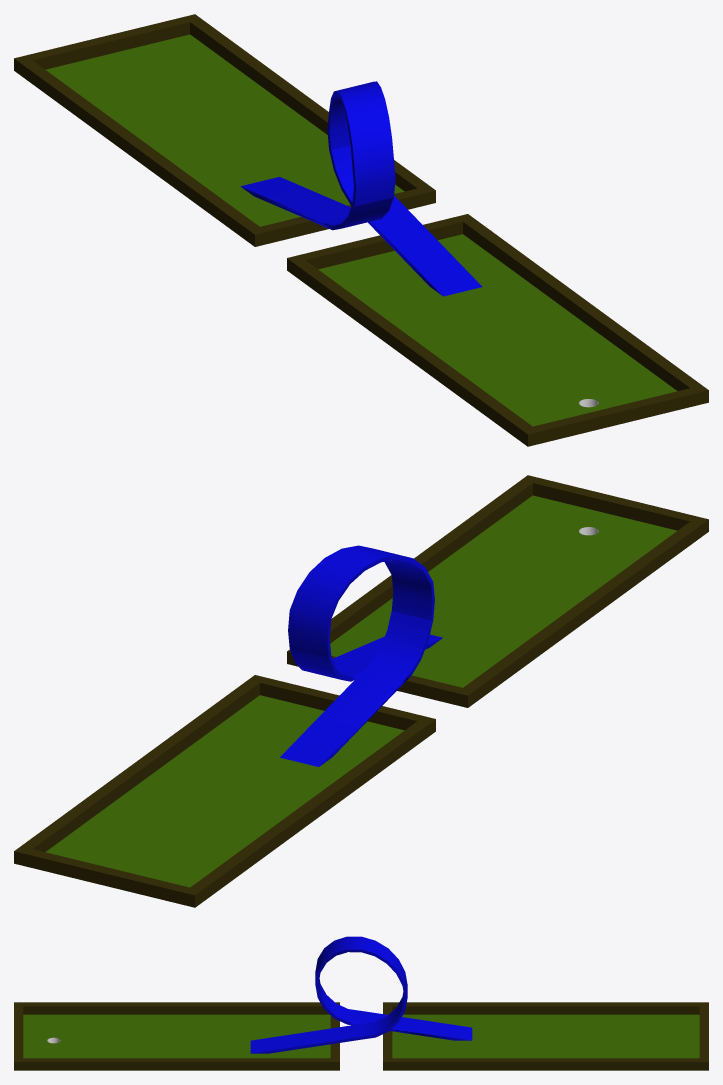
Rendered from hole4.fbx.
3 renders of one model, top to bottom at view 1: azimuth 30°, elevation 25°; view 2: azimuth 150°, elevation 25°; view 3: azimuth 270°, elevation 25°, orthographic. The views are drawn at different scales.
Parts seen in each view (by area): view 1: wall4, pPlane2, pPlane3, pCube10; view 2: wall4, pPlane3, pPlane2, pCube10; view 3: wall4, pPlane3, pPlane2, pCube10.
Boxes of the visible parts, x1,y1,x2,y2 form: wall4: [14, 14, 708, 446]; pPlane2: [318, 234, 677, 426]; pPlane3: [45, 34, 404, 226]; pCube10: [240, 81, 482, 296]; wall4: [14, 475, 708, 907]; pPlane3: [45, 695, 404, 887]; pPlane2: [330, 495, 677, 687]; pCube10: [280, 545, 442, 766]; wall4: [14, 1002, 708, 1070]; pPlane3: [392, 1014, 699, 1058]; pPlane2: [23, 1014, 330, 1058]; pCube10: [250, 936, 472, 1053].
Size of the model in its own units: 23 by 19.5 by 113.
